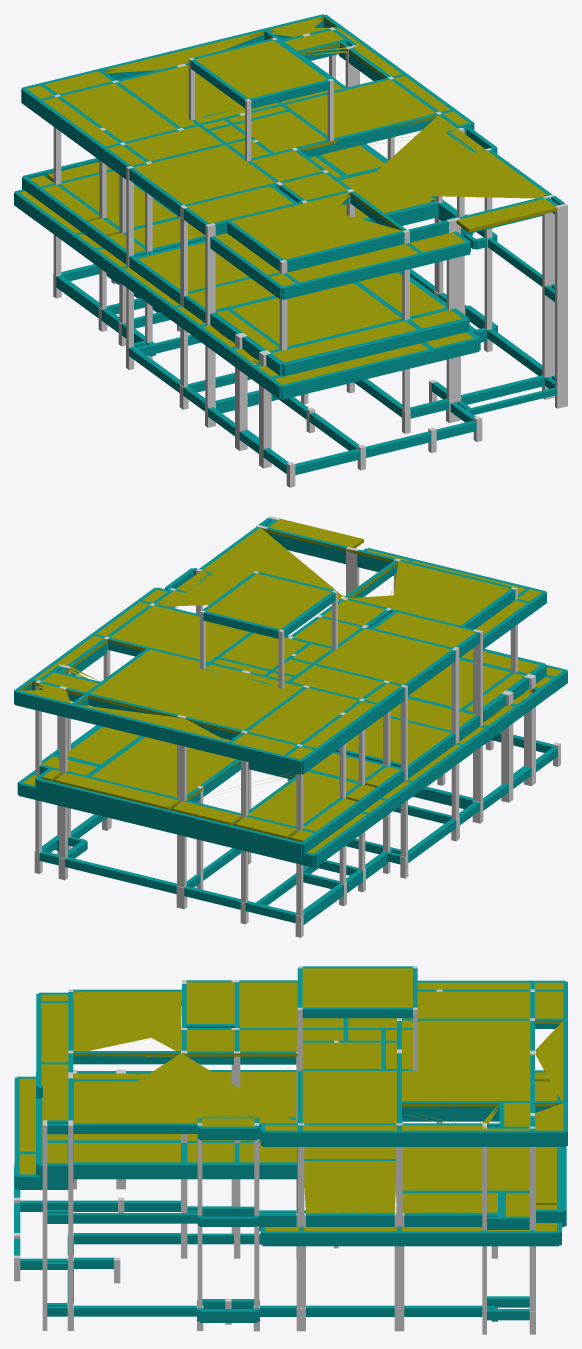
The picture shows the model from 3 angles, top to bottom: view 1: azimuth 30°, elevation 25°; view 2: azimuth 150°, elevation 25°; view 3: azimuth 270°, elevation 25°; orthographic projection. The views are drawn at different scales.
Visible parts, largest first — view 1: Cobertura-Lajes, Superior-Lajes, Cobertura-Vigas, Superior-Vigas, object 11, Cobertura-Pilares, Superior-Pilares, Reser-Lajes, object 10, Reser-Vigas, Reser-Pilares; view 2: Cobertura-Lajes, Superior-Lajes, Cobertura-Vigas, Superior-Vigas, object 11, Cobertura-Pilares, Superior-Pilares, Reser-Lajes, object 10, Reser-Vigas, Reser-Pilares; view 3: Cobertura-Lajes, Superior-Lajes, Superior-Vigas, Cobertura-Vigas, object 11, Superior-Pilares, Cobertura-Pilares, Reser-Lajes, object 10, Reser-Vigas, Reser-Pilares.
Part boxes in pixels (x1,y1,x2,y2): Cobertura-Lajes: (26, 16, 557, 286); Superior-Lajes: (19, 145, 473, 384); Cobertura-Vigas: (21, 14, 565, 299); Superior-Vigas: (14, 144, 554, 399); object 11: (56, 264, 557, 475); Cobertura-Pilares: (53, 27, 567, 350); Superior-Pilares: (53, 199, 567, 446); Reser-Lajes: (195, 40, 326, 98); object 10: (53, 274, 567, 487); Reser-Vigas: (191, 38, 331, 108); Reser-Pilares: (188, 37, 333, 161); Cobertura-Lajes: (19, 518, 541, 759); Superior-Lajes: (23, 648, 562, 853); Cobertura-Vigas: (14, 518, 546, 774); Superior-Vigas: (17, 648, 567, 867); object 11: (39, 732, 557, 924); Cobertura-Pilares: (35, 516, 517, 829); Superior-Pilares: (35, 674, 535, 916); Reser-Lajes: (206, 573, 331, 629); object 10: (34, 740, 560, 937); Reser-Vigas: (202, 572, 335, 638); Reser-Pilares: (200, 571, 337, 688); Cobertura-Lajes: (41, 982, 563, 1130); Superior-Lajes: (19, 1072, 556, 1231); Superior-Vigas: (14, 1070, 566, 1246); Cobertura-Vigas: (36, 980, 567, 1146); object 11: (14, 1168, 529, 1322); Superior-Pilares: (42, 1069, 535, 1311); Cobertura-Pilares: (42, 980, 535, 1218); Reser-Lajes: (302, 968, 412, 1007); object 10: (14, 1162, 535, 1334); Reser-Vigas: (297, 966, 417, 1018); Reser-Pilares: (297, 966, 417, 1070).
Bounding box in the file's own units: 1180 × 934 × 1757.
